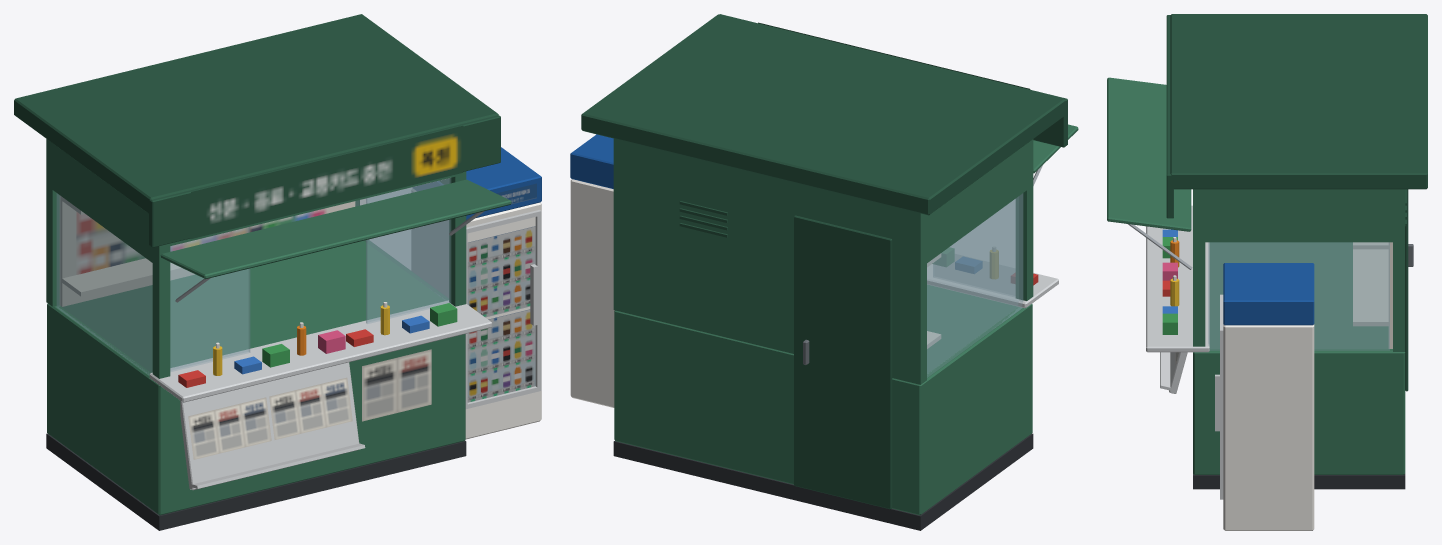
File: SC_Str_Newsstand_Kiosk.gltf
3 views of the same model, side by side, from view 1: azimuth 30°, elevation 25°; view 2: azimuth 150°, elevation 25°; view 3: azimuth 270°, elevation 25° (orthographic). The views are drawn at different scales.
Visible parts, largest first — view 1: SC_Str_Newsstand_Kiosk; view 2: SC_Str_Newsstand_Kiosk; view 3: SC_Str_Newsstand_Kiosk.
Part boxes in pixels (bbox=[...]): SC_Str_Newsstand_Kiosk: bbox=[14, 14, 541, 530]; SC_Str_Newsstand_Kiosk: bbox=[570, 14, 1078, 530]; SC_Str_Newsstand_Kiosk: bbox=[1107, 14, 1427, 530].
Size of the model in its own units: 3.01 by 2.37 by 2.12.
5 materials, 5 textured.
